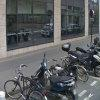Bicycle: (3, 57, 59, 100)
